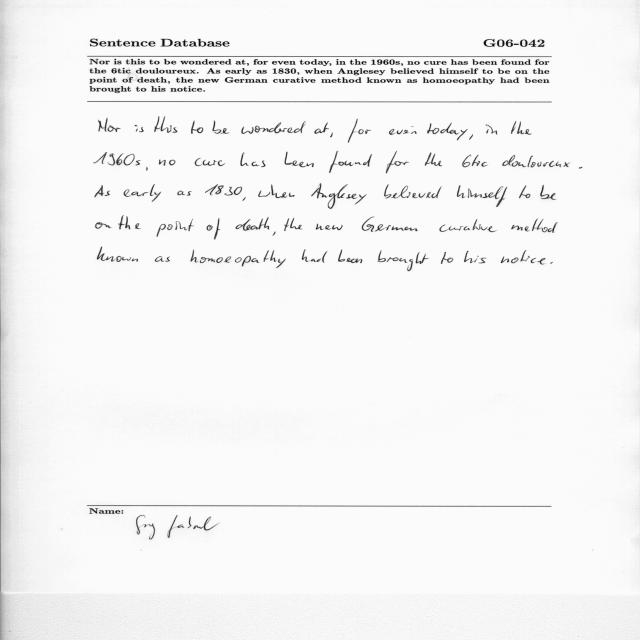word: (191, 250, 286, 268), (311, 183, 367, 209), (457, 185, 508, 207), (377, 250, 429, 271), (329, 151, 372, 173), (241, 121, 306, 134), (362, 217, 418, 232), (502, 155, 570, 167), (384, 185, 442, 199), (439, 219, 497, 232), (427, 123, 468, 140), (512, 218, 558, 233), (501, 250, 546, 265), (124, 184, 161, 202), (157, 219, 194, 237), (97, 247, 138, 262), (94, 152, 140, 165), (348, 119, 371, 143), (258, 184, 295, 198), (386, 152, 409, 174), (236, 217, 270, 231), (284, 152, 314, 167), (205, 185, 242, 196), (154, 116, 177, 133), (240, 153, 266, 167), (302, 249, 327, 263), (338, 250, 362, 264), (118, 216, 141, 230), (462, 155, 488, 167), (99, 118, 121, 132), (464, 251, 486, 264), (207, 218, 220, 239), (511, 121, 531, 134), (389, 126, 417, 135), (284, 218, 303, 231), (195, 158, 225, 166), (540, 185, 556, 200), (212, 120, 229, 134), (425, 153, 442, 166), (315, 122, 330, 134), (95, 185, 110, 197), (191, 120, 203, 134), (316, 224, 343, 230), (441, 252, 453, 264), (519, 186, 530, 199), (486, 124, 498, 135), (96, 222, 111, 229), (159, 160, 176, 166), (155, 256, 170, 262), (177, 191, 192, 196), (134, 125, 144, 132), (469, 134, 473, 140), (242, 197, 246, 201), (330, 133, 333, 138), (273, 232, 276, 236), (146, 167, 148, 171), (579, 167, 582, 169), (550, 262, 553, 264)
